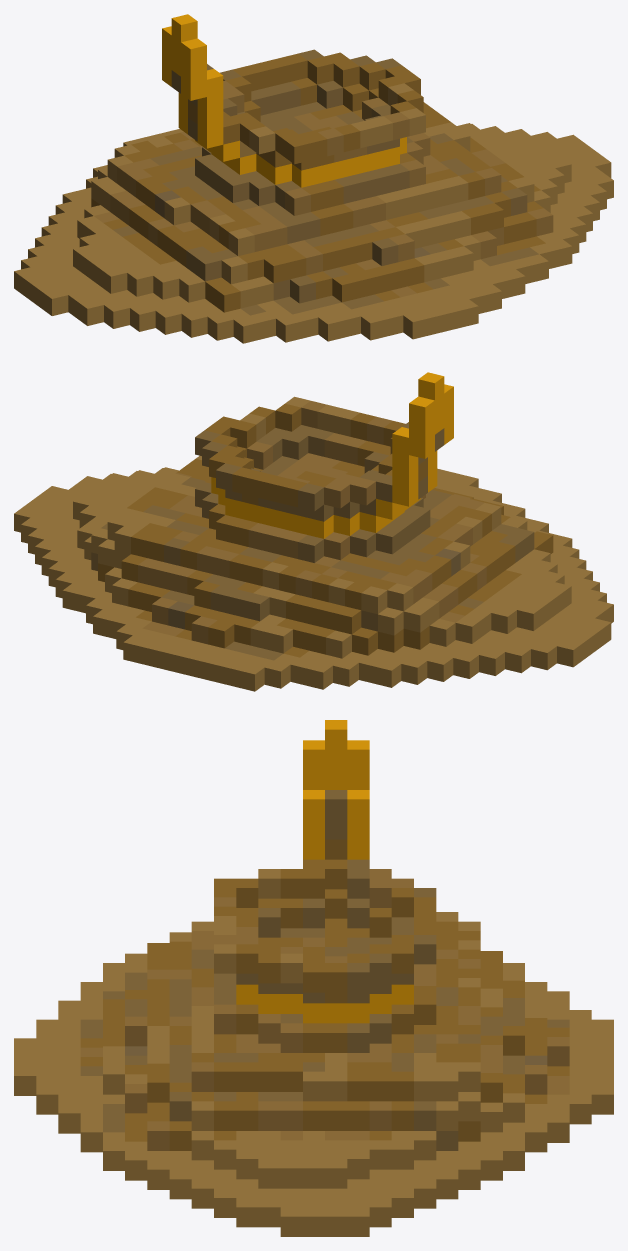
Rendered from rojin_male_hair.glb.
3 views of the same model, one above another, from view 1: azimuth 30°, elevation 25°; view 2: azimuth 150°, elevation 25°; view 3: azimuth 270°, elevation 25° (orthographic). The views are drawn at different scales.
Visible parts, largest first — view 1: Model.001; view 2: Model.001; view 3: Model.001.
Part boxes in pixels (left/top/right/bottom): Model.001: left=14, top=14, right=613, bottom=343; Model.001: left=14, top=372, right=613, bottom=691; Model.001: left=14, top=720, right=613, bottom=1236.
Bounding box in the file's own units: 1.46 × 0.602 × 1.16.
1 material, 1 textured.
